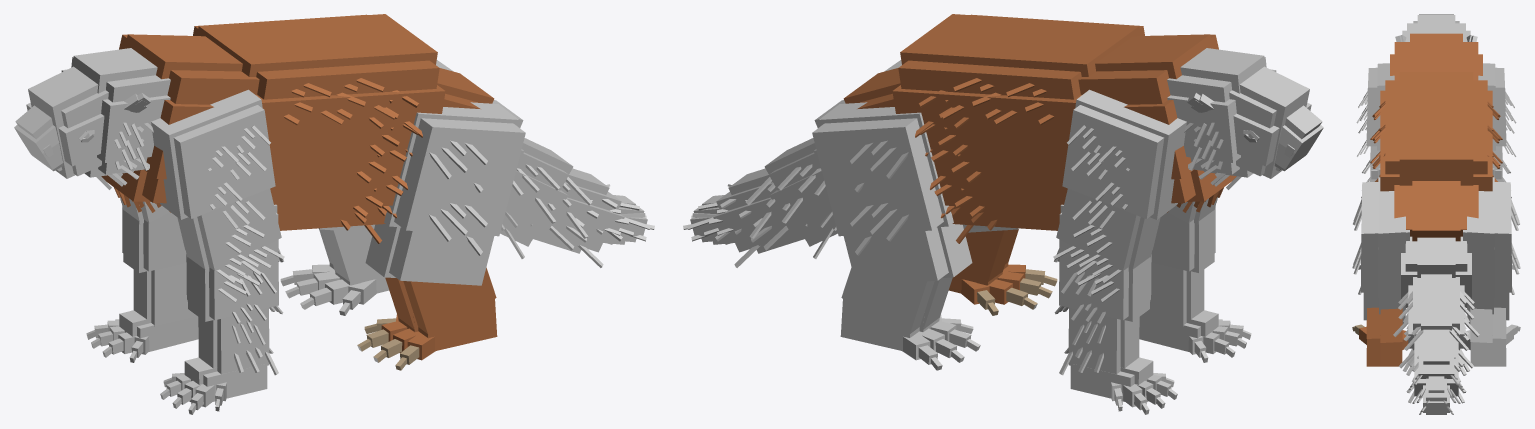
The model's file is jefferson_ground_sloth.obj.
The picture shows the model from 3 angles, left to right: view 1: azimuth 30°, elevation 25°; view 2: azimuth 150°, elevation 25°; view 3: azimuth 270°, elevation 25°; orthographic projection. The views are drawn at different scales.
Parts seen in each view (by area): view 1: Cube.003, Cube.015, Cube.006, Cube.004, Cube.008, Cube.002, Cube.012, Cube.016, Cube.014, Cube.009; view 2: Cube.003, Cube.011, Cube.009, Cube.004, Cube.012, Cube.002, Cube.008, Cube.014, Cube.016, Cube.006; view 3: Cube.003, Cube.002, Cube.015, Cube.011, Cube.016, Cube.014, Cube.006, Cube.009, Cube.004.
Boxes of the visible parts, bbox=[...] form: Cube.003: bbox=[101, 14, 494, 243]; Cube.015: bbox=[365, 102, 525, 285]; Cube.006: bbox=[151, 89, 281, 272]; Cube.004: bbox=[14, 48, 170, 189]; Cube.008: bbox=[160, 204, 284, 414]; Cube.002: bbox=[492, 100, 654, 267]; Cube.012: bbox=[86, 207, 198, 362]; Cube.016: bbox=[357, 267, 497, 370]; Cube.014: bbox=[280, 229, 389, 315]; Cube.009: bbox=[120, 197, 169, 224]; Cube.003: bbox=[843, 14, 1236, 243]; Cube.011: bbox=[812, 102, 972, 285]; Cube.009: bbox=[1056, 89, 1186, 272]; Cube.004: bbox=[1167, 48, 1323, 189]; Cube.012: bbox=[1053, 204, 1177, 414]; Cube.002: bbox=[683, 100, 845, 267]; Cube.008: bbox=[1139, 207, 1251, 362]; Cube.014: bbox=[840, 267, 980, 370]; Cube.016: bbox=[948, 229, 1057, 315]; Cube.006: bbox=[1168, 197, 1217, 224]; Cube.003: bbox=[1370, 33, 1502, 241]; Cube.002: bbox=[1393, 236, 1479, 414]; Cube.015: bbox=[1352, 177, 1409, 323]; Cube.011: bbox=[1463, 177, 1520, 323]; Cube.016: bbox=[1352, 307, 1408, 366]; Cube.014: bbox=[1464, 307, 1520, 366]; Cube.006: bbox=[1356, 63, 1394, 181]; Cube.009: bbox=[1478, 63, 1516, 181]; Cube.004: bbox=[1395, 14, 1477, 41].
Size of the model in its own units: 11.63 by 5.85 by 3.88.
